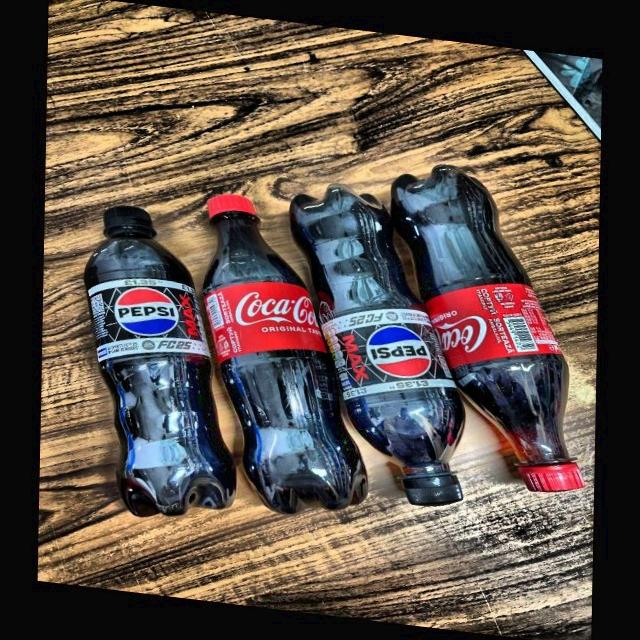coke-bottle: (390, 168, 594, 494), (198, 195, 364, 508)
pepsi-bottle: (290, 190, 462, 505), (85, 205, 237, 515)
